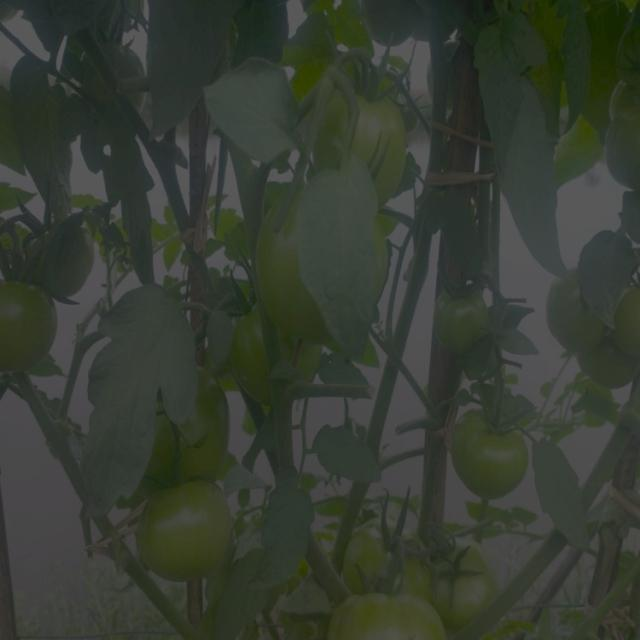tomato: (126, 478, 241, 591), (254, 195, 320, 347), (331, 89, 414, 192), (445, 408, 532, 498), (421, 531, 491, 623), (332, 588, 450, 640), (1, 272, 58, 379), (351, 514, 420, 591), (25, 222, 93, 300), (600, 70, 640, 188), (431, 282, 493, 353), (542, 273, 588, 359), (585, 340, 635, 392), (610, 290, 640, 366)
